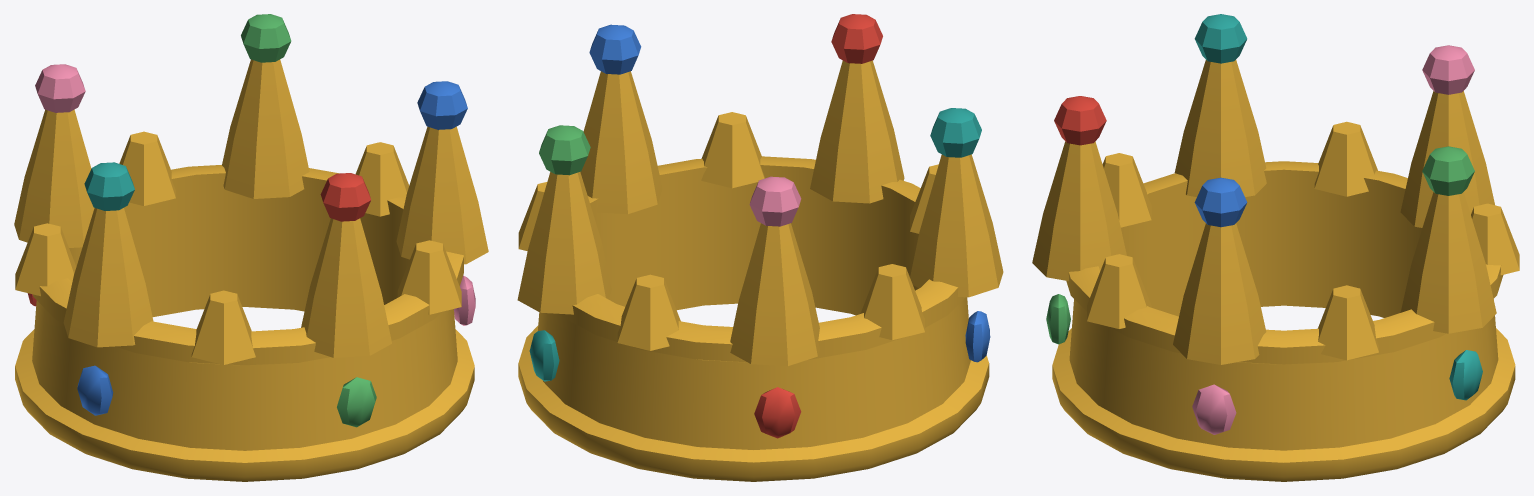
File: hat_crown.glb
3 renders of one model, left to right at view 1: azimuth 30°, elevation 25°; view 2: azimuth 150°, elevation 25°; view 3: azimuth 270°, elevation 25°, orthographic. The views are drawn at different scales.
Parts seen in each view (by area): view 1: Hat; view 2: Hat; view 3: Hat.
Boxes of the visible parts, left/top/right/bottom form: Hat: left=14, top=14, right=488, bottom=481; Hat: left=517, top=14, right=1003, bottom=481; Hat: left=1032, top=14, right=1519, bottom=481.
Size of the model in its own units: 0.6224 by 0.411 by 0.6276.
